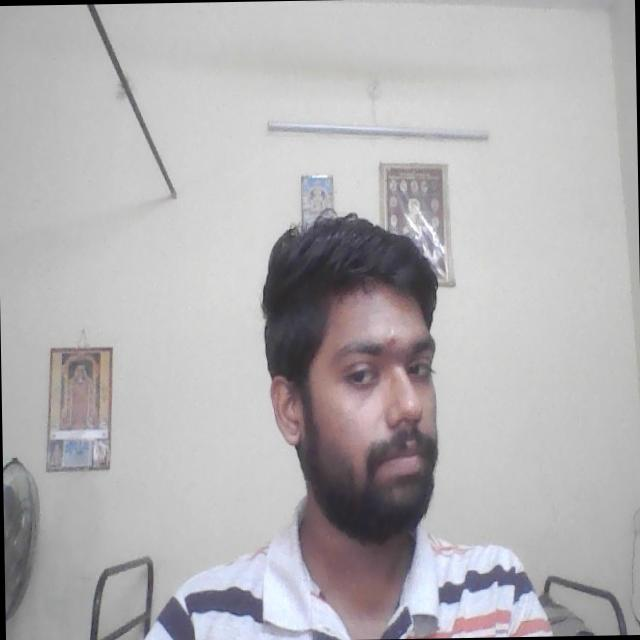Focused: (272, 316, 448, 499)
